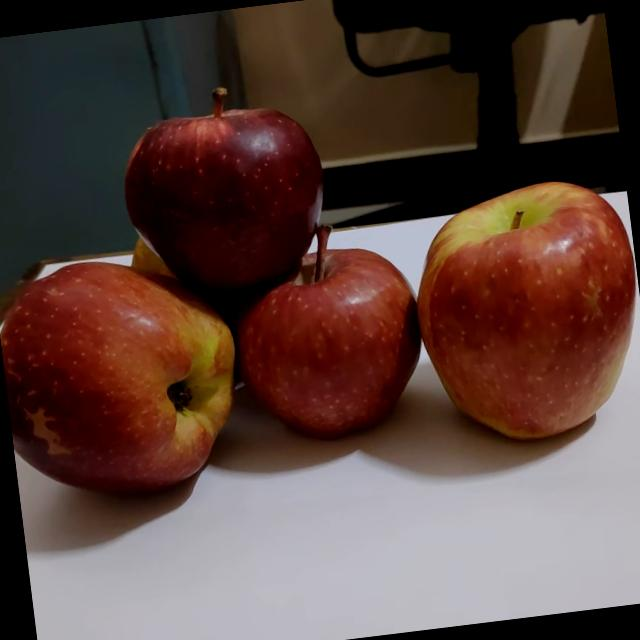apple: (0, 248, 271, 520), (407, 169, 640, 462), (111, 76, 349, 314), (224, 212, 442, 456), (120, 220, 204, 302)
